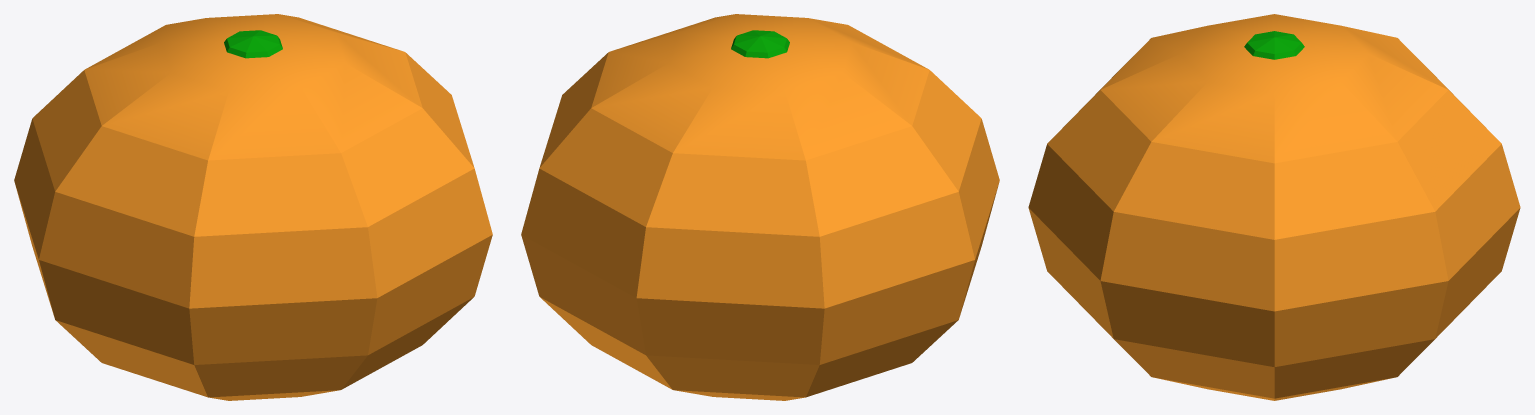
File: Orange.fbx
The picture shows the model from 3 angles, left to right: view 1: azimuth 30°, elevation 25°; view 2: azimuth 150°, elevation 25°; view 3: azimuth 270°, elevation 25°; orthographic projection.
Parts seen in each view (by area): view 1: pSphere1; view 2: pSphere1; view 3: pSphere1.
Part boxes in pixels (x1,y1,x2,y2): pSphere1: (14, 14, 492, 400); pSphere1: (521, 14, 999, 400); pSphere1: (1028, 14, 1520, 400).
Size of the model in its own units: 15.81 by 11.92 by 15.81.
